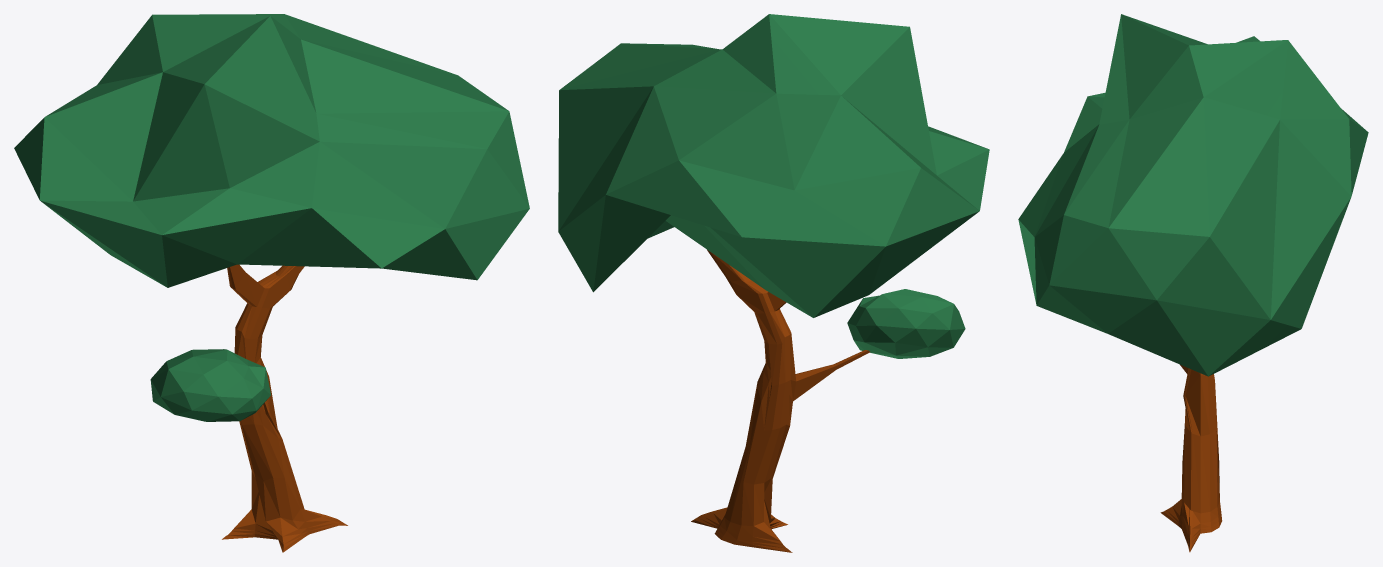
Rendered from tree_07.FBX.
3 views of the same model, side by side, from view 1: azimuth 30°, elevation 25°; view 2: azimuth 150°, elevation 25°; view 3: azimuth 270°, elevation 25° (orthographic). The views are drawn at different scales.
Visible parts, largest first — view 1: tree_07; view 2: tree_07; view 3: tree_07.
Part boxes in pixels (x1,y1,x2,y2): tree_07: [14, 14, 529, 552]; tree_07: [558, 14, 989, 552]; tree_07: [1018, 14, 1368, 552].
Size of the model in its own units: 8.64 by 10 by 6.71.
Materials: 1 (1 with a texture image).
